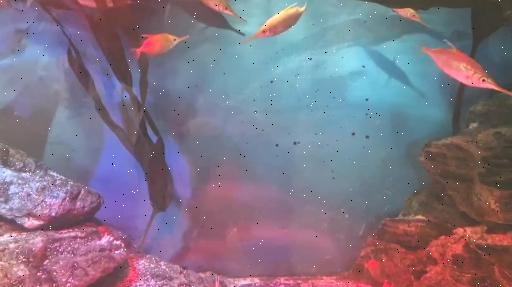Fish: (422, 40, 511, 96), (363, 49, 425, 98), (243, 3, 306, 43), (131, 33, 188, 58), (203, 0, 246, 21), (393, 8, 430, 27), (365, 259, 385, 282), (0, 0, 23, 11), (79, 0, 98, 8), (27, 0, 34, 7), (385, 280, 389, 286), (218, 277, 220, 286), (356, 284, 361, 286)
